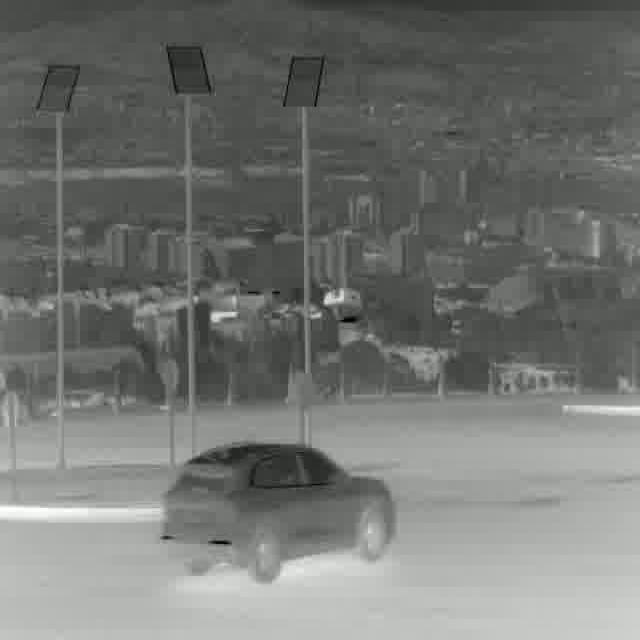Car: (162, 442, 398, 578)
